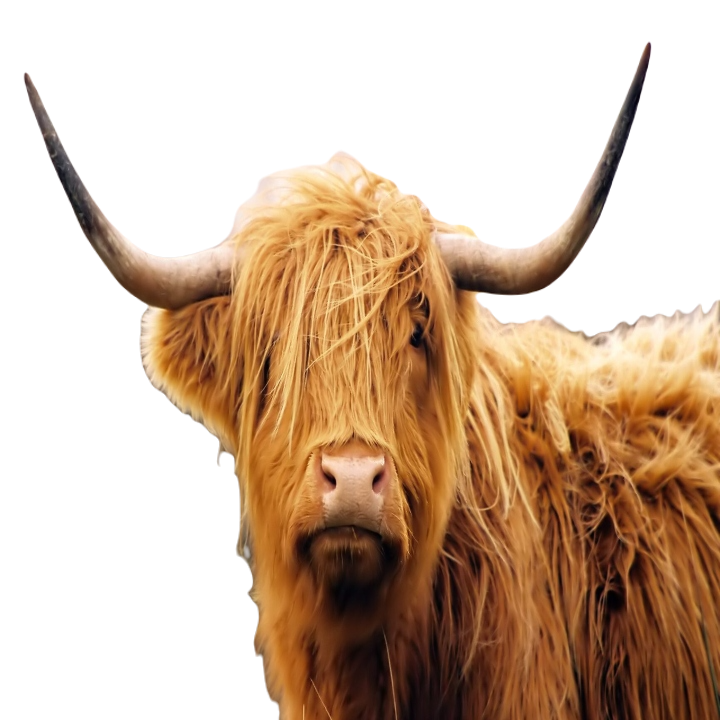Cow: (16, 43, 719, 719)
